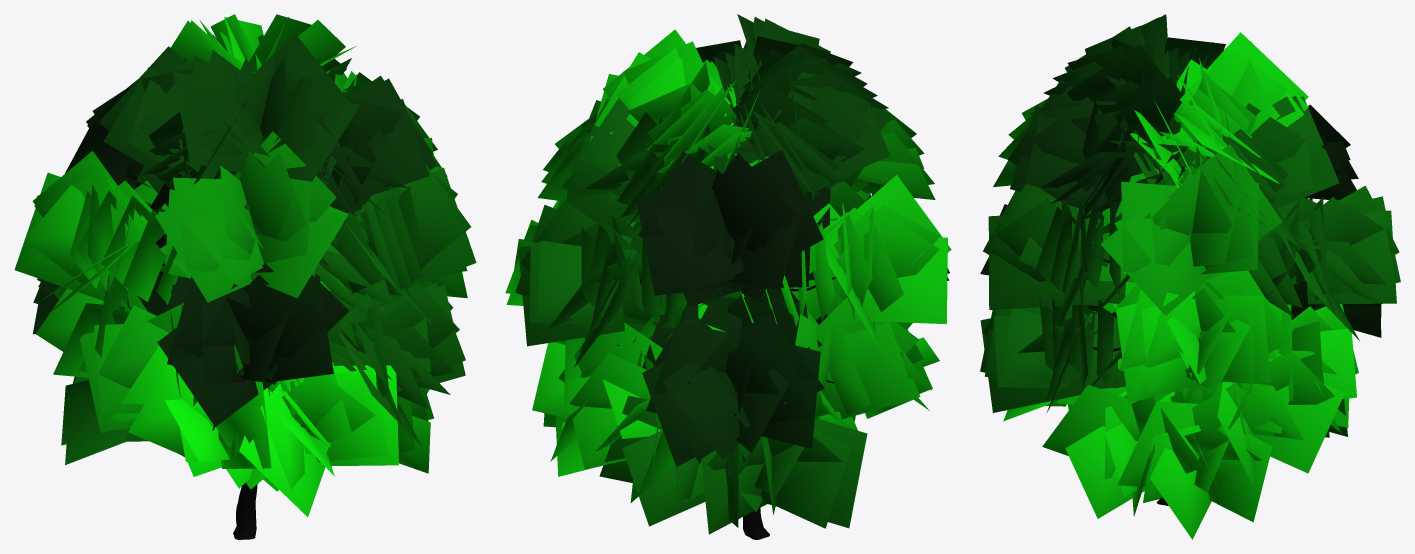
The model's file is Maple_2.fbx.
3 renders of one model, left to right at view 1: azimuth 30°, elevation 25°; view 2: azimuth 150°, elevation 25°; view 3: azimuth 270°, elevation 25°, orthographic. The views are drawn at different scales.
Visible parts, largest first — view 1: Maple_2; view 2: Maple_2; view 3: Maple_2.
Part boxes in pixels (left/top/right/bottom): Maple_2: left=14, top=14, right=476, bottom=539; Maple_2: left=505, top=14, right=951, bottom=539; Maple_2: left=980, top=14, right=1400, bottom=539.
Bounding box in the file's own units: 352 × 405 × 326.
